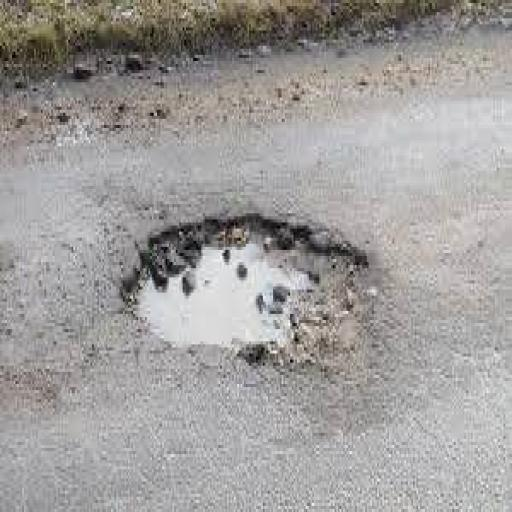entrance: (123, 217, 366, 362), (137, 241, 312, 347)
ramp: (0, 31, 511, 511)
